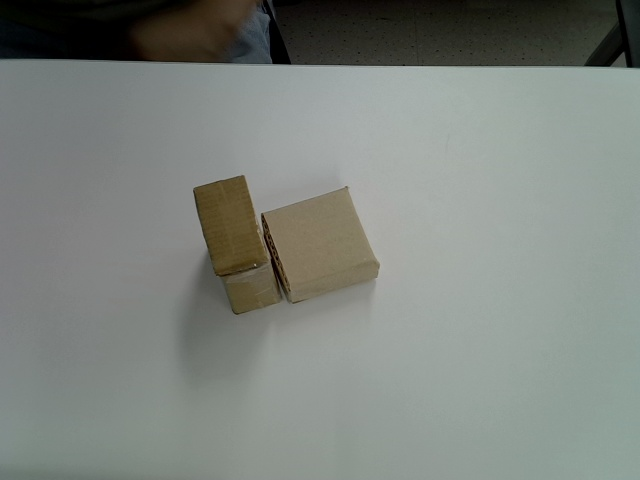normal: (260, 185, 380, 303), (192, 174, 284, 315)
